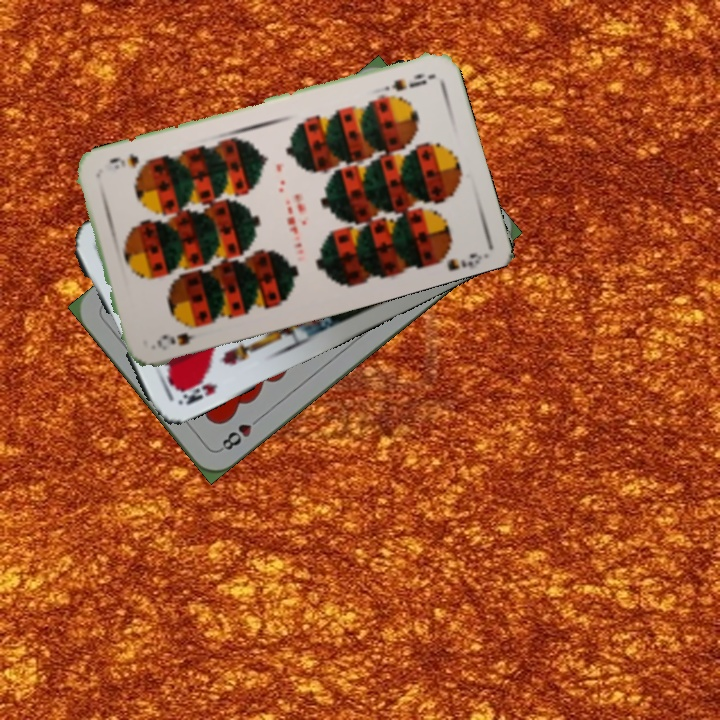H8: (215, 412, 265, 454)
HK: (172, 373, 220, 408)
S9: (376, 69, 435, 94), (152, 328, 199, 354)
